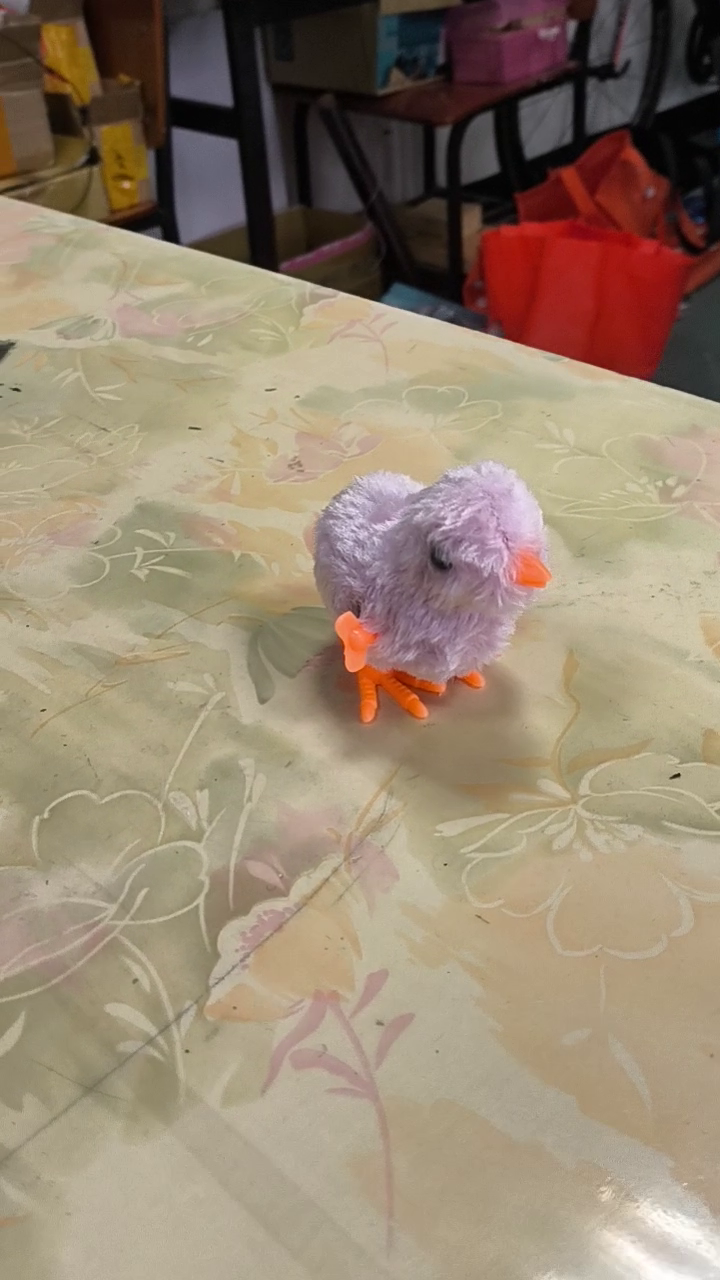pink chicken: (308, 466, 560, 729)
